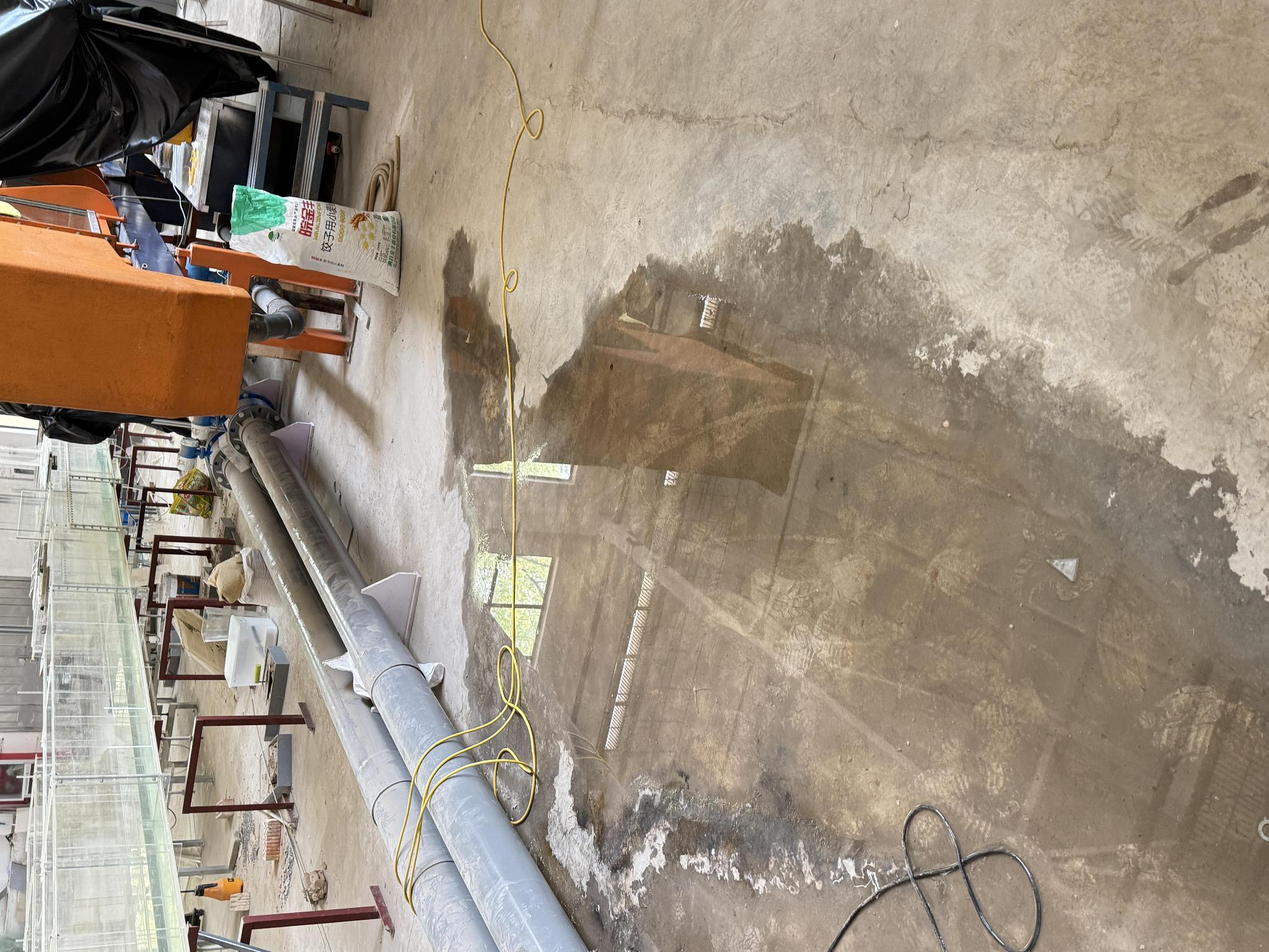water accumulation: (441, 224, 1269, 952)
